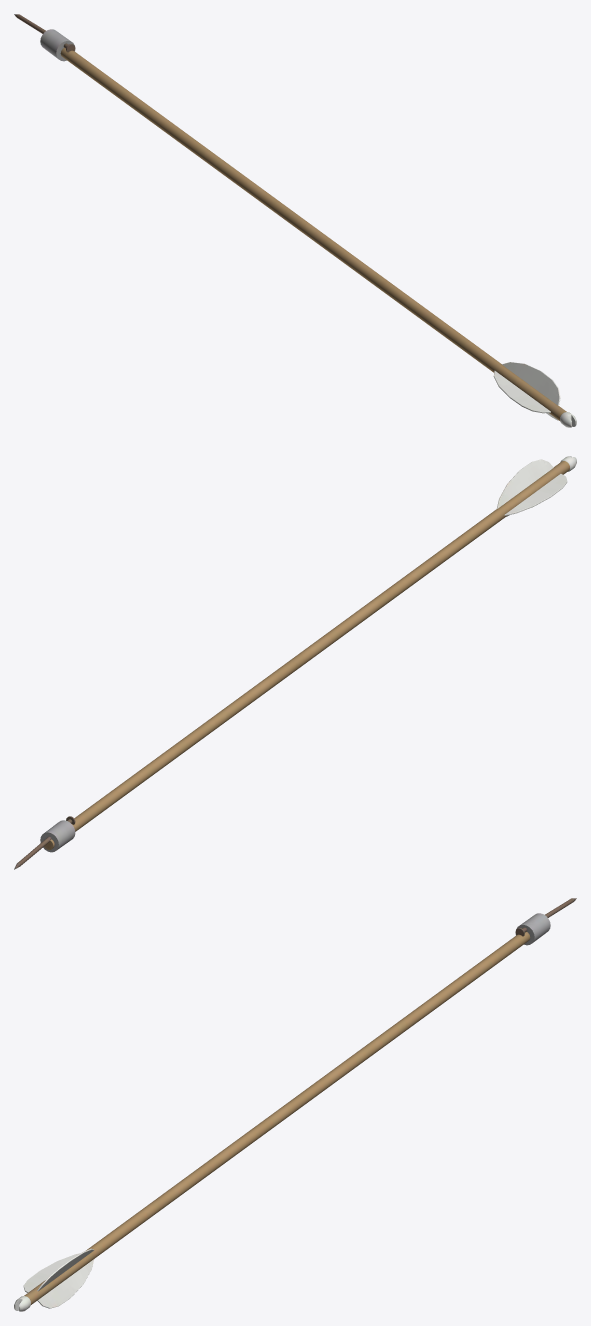
The model's file is flecha_prego.glb.
3 views of the same model, one above another, from view 1: azimuth 30°, elevation 25°; view 2: azimuth 150°, elevation 25°; view 3: azimuth 330°, elevation 25° (orthographic).
Visible parts, largest first — view 1: flecha_prego_flecha; view 2: flecha_prego_flecha; view 3: flecha_prego_flecha.
Boxes of the visible parts, left/top/right/bottom form: flecha_prego_flecha: left=14, top=14, right=576, bottom=427; flecha_prego_flecha: left=14, top=456, right=576, bottom=869; flecha_prego_flecha: left=14, top=898, right=576, bottom=1311.
Bounding box in the file's own units: 0.0248 × 0.0286 × 0.758.
1 material, 1 textured.
